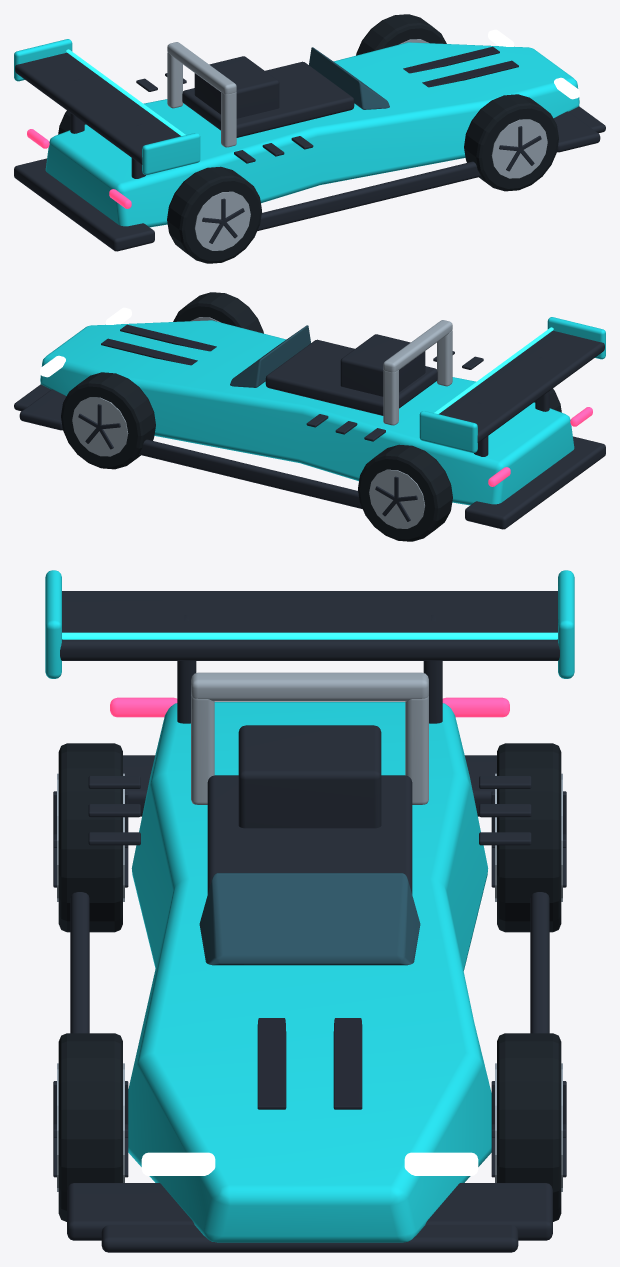
File: crosswind.glb
3 views of the same model, one above another, from view 1: azimuth 30°, elevation 25°; view 2: azimuth 150°, elevation 25°; view 3: azimuth 270°, elevation 25° (orthographic). The views are drawn at different scales.
Visible parts, largest first — view 1: Open cockpit body, Rear aero wing.002, Cockpit well, crosswind_Wheel_R_L, crosswind_Wheel_F_L, Side skirt.004, Rear diffuser.002, Seat, crosswind_WheelHub.002, crosswind_WheelHub, crosswind_Wheel_F_R, Wing endplate.004 (+10 smaller); view 2: Open cockpit body, Rear aero wing.002, Cockpit well, crosswind_Wheel_R_R, crosswind_Wheel_F_R, Side skirt.005, Rear diffuser.002, Seat, crosswind_WheelHub.003, crosswind_WheelHub.001, crosswind_Wheel_F_L, Wing endplate.005 (+10 smaller); view 3: Open cockpit body, Rear aero wing.002, Wind deflector, Seat, Cockpit well, Front aero wing, crosswind_Wheel_R_L, crosswind_Wheel_R_R, crosswind_Wheel_F_L, crosswind_Wheel_F_R, Front splitter.002, Roll hoop upper (+16 smaller).
Part boxes in pixels (left/top/right/bottom): Open cockpit body: left=45, top=42, right=579, bottom=227; Rear aero wing.002: left=15, top=52, right=180, bottom=164; Cockpit well: left=182, top=61, right=354, bottom=137; crosswind_Wheel_R_L: left=167, top=166, right=261, bottom=263; crosswind_Wheel_F_L: left=464, top=94, right=558, bottom=191; Side skirt.004: left=257, top=161, right=480, bottom=230; Rear diffuser.002: left=14, top=158, right=154, bottom=251; Seat: left=194, top=56, right=279, bottom=118; crosswind_WheelHub.002: left=491, top=119, right=547, bottom=178; crosswind_WheelHub: left=195, top=191, right=250, bottom=250; crosswind_Wheel_F_R: left=356, top=14, right=446, bottom=55; Wing endplate.004: left=142, top=133, right=200, bottom=174; Open cockpit body: left=40, top=320, right=574, bottom=505; Rear aero wing.002: left=439, top=330, right=604, bottom=442; Cockpit well: left=265, top=339, right=437, bottom=415; crosswind_Wheel_R_R: left=358, top=444, right=452, bottom=541; crosswind_Wheel_F_R: left=61, top=372, right=155, bottom=469; Side skirt.005: left=139, top=439, right=362, bottom=508; Rear diffuser.002: left=465, top=436, right=605, bottom=529; Seat: left=340, top=334, right=425, bottom=396; crosswind_WheelHub.003: left=72, top=397, right=128, bottom=456; crosswind_WheelHub.001: left=369, top=469, right=424, bottom=528; crosswind_Wheel_F_L: left=173, top=292, right=263, bottom=333; Wing endplate.005: left=419, top=411, right=477, bottom=452; Open cockpit body: left=128, top=702, right=491, bottom=1242; Rear aero wing.002: left=60, top=591, right=559, bottom=660; Wind deflector: left=199, top=873, right=420, bottom=965; Seat: left=238, top=725, right=381, bottom=828; Cockpit well: left=207, top=775, right=412, bottom=893; Front aero wing: left=67, top=1183, right=552, bottom=1240; crosswind_Wheel_R_L: left=58, top=743, right=122, bottom=932; crosswind_Wheel_R_R: left=497, top=743, right=561, bottom=932; crosswind_Wheel_F_L: left=58, top=1033, right=122, bottom=1221; crosswind_Wheel_F_R: left=497, top=1033, right=561, bottom=1221; Front splitter.002: left=101, top=1225, right=518, bottom=1252; Roll hoop upper: left=191, top=672, right=428, bottom=701.
Bounding box in the file's own units: 4.78 × 1.34 × 2.22.
